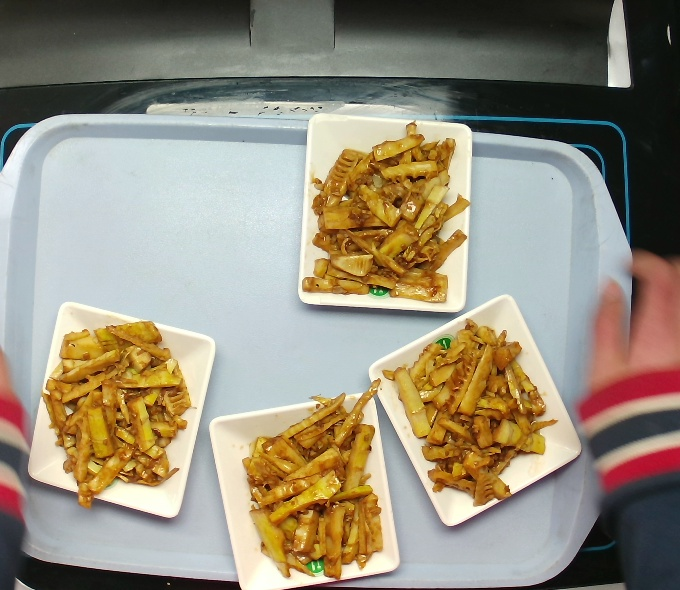wcq-QingChaoChunSun: (369, 296, 560, 535), (30, 310, 206, 502), (311, 117, 467, 311), (239, 376, 386, 578)
